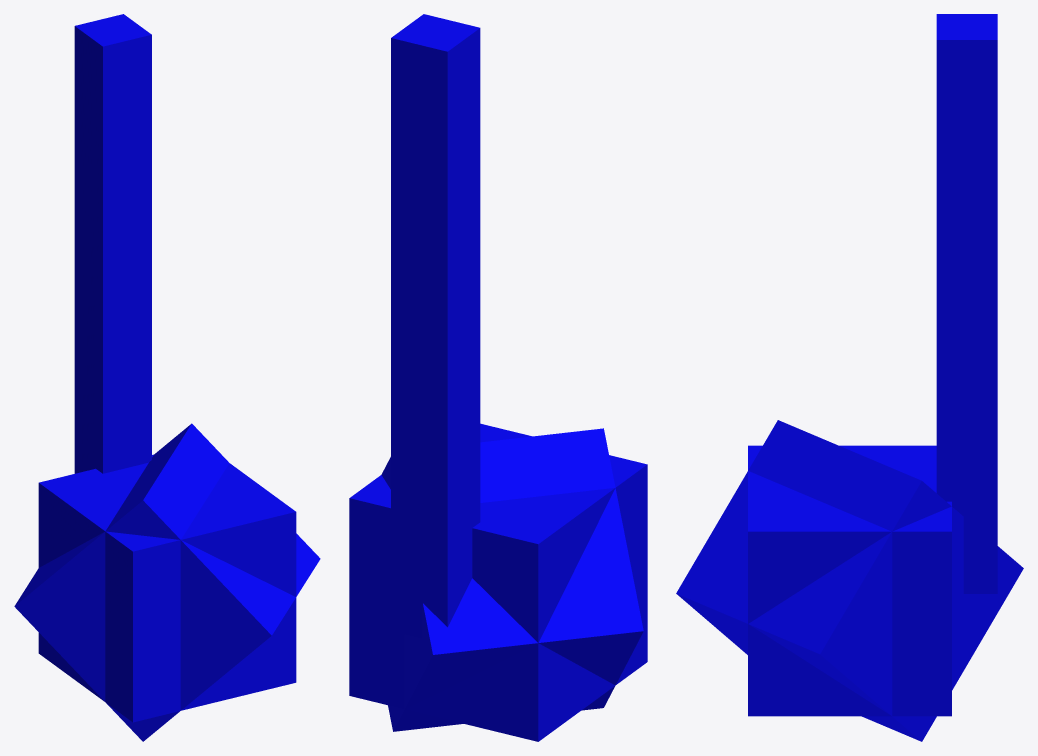
File: crotchet.dae
3 views of the same model, side by side, from view 1: azimuth 30°, elevation 25°; view 2: azimuth 150°, elevation 25°; view 3: azimuth 270°, elevation 25° (orthographic). The views are drawn at different scales.
Visible parts, largest first — view 1: Cube.001, Cube, Cube.002; view 2: Cube.001, Cube, Cube.002; view 3: Cube.002, Cube.001, Cube.
Boxes of the visible parts, x1,y1,x2,y2 form: Cube.001: (74,14,151,473); Cube: (38,454,296,722); Cube.002: (14,423,320,741); Cube.001: (391,14,480,638); Cube: (349,423,647,741); Cube.002: (381,428,643,731); Cube.002: (676,420,1023,741); Cube.001: (936,14,997,593); Cube: (748,445,951,716).
Size of the model in its own units: 0.1707 by 0.1707 by 0.3707.
